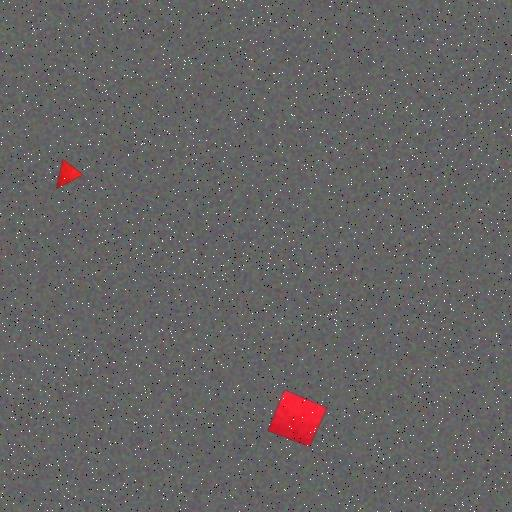RED_SQUARE: (267, 390, 328, 447)
